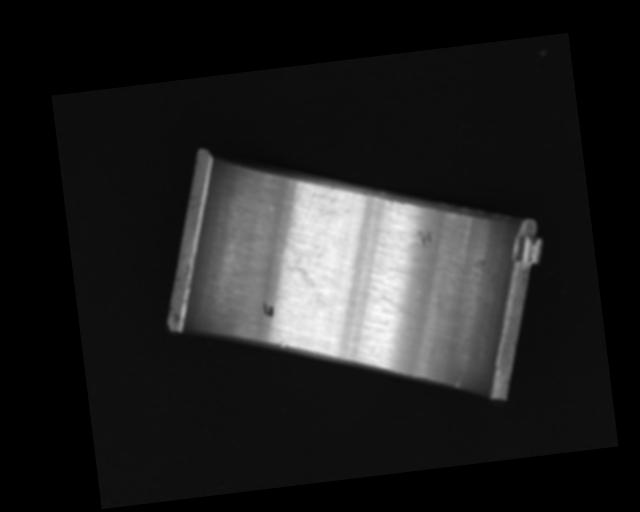blot: (279, 244, 323, 294), (262, 299, 275, 320)
bruise: (416, 227, 433, 247), (279, 340, 287, 348)
nick: (369, 279, 420, 323), (454, 376, 464, 389)
